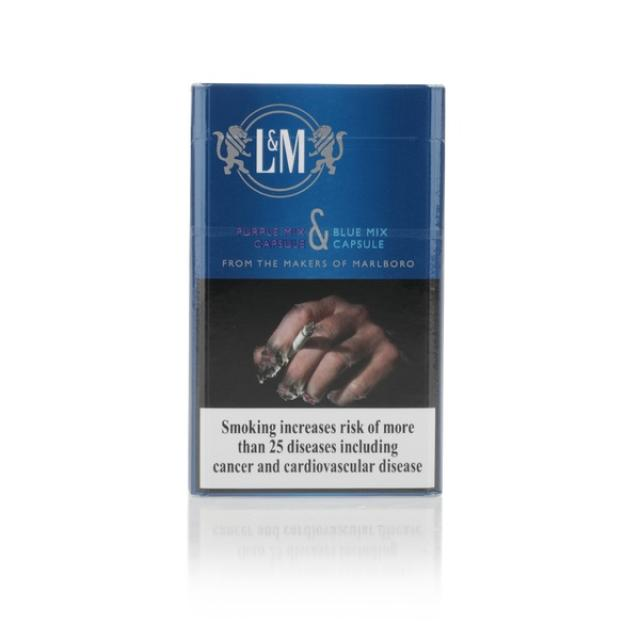lm: (177, 81, 451, 503)
